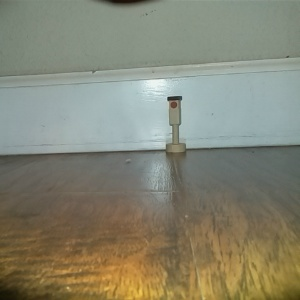traffic light red: (165, 94, 187, 155)
